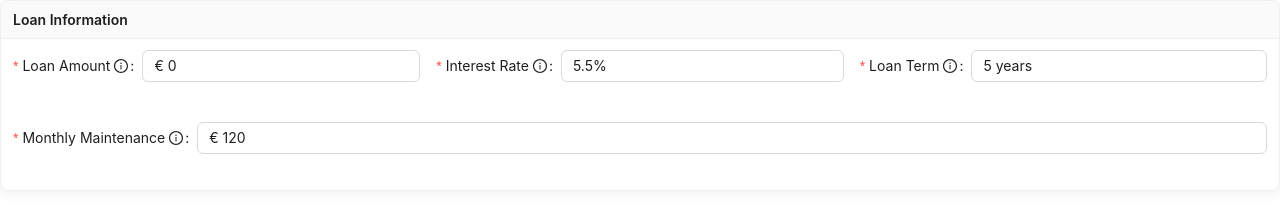
Test case: LoanSection › formats currency inputs correctly
Replace the text in the number field labelled "Loan Amount" with "25000". click: {"x": 281, "y": 66}
box: [143,51,419,81]
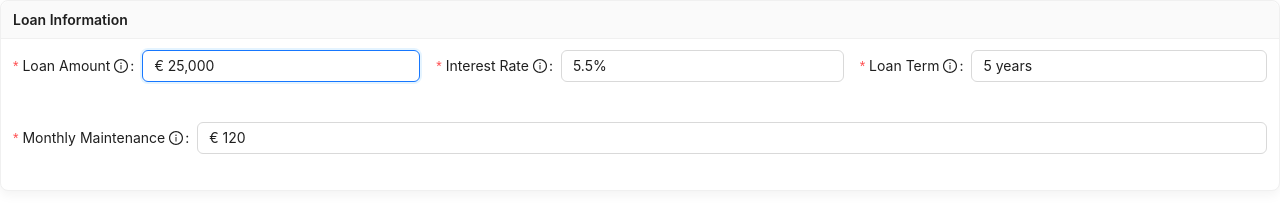
Expected: the number field showing "€ 25,000" is shown, [143,51,419,81]
